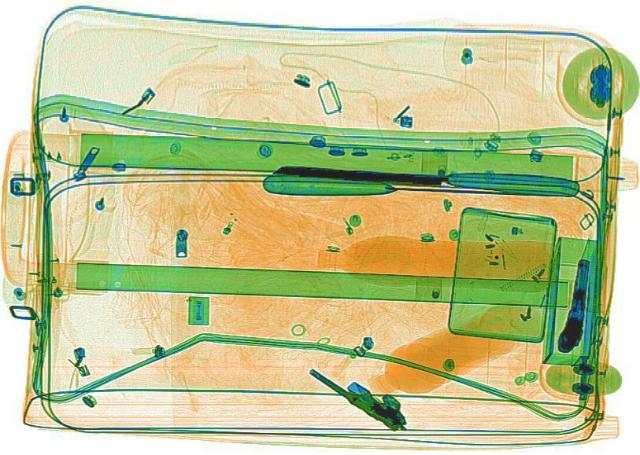Gun: (296, 357, 426, 434), (554, 258, 594, 351)
Knife: (260, 167, 576, 208), (270, 160, 578, 195)
